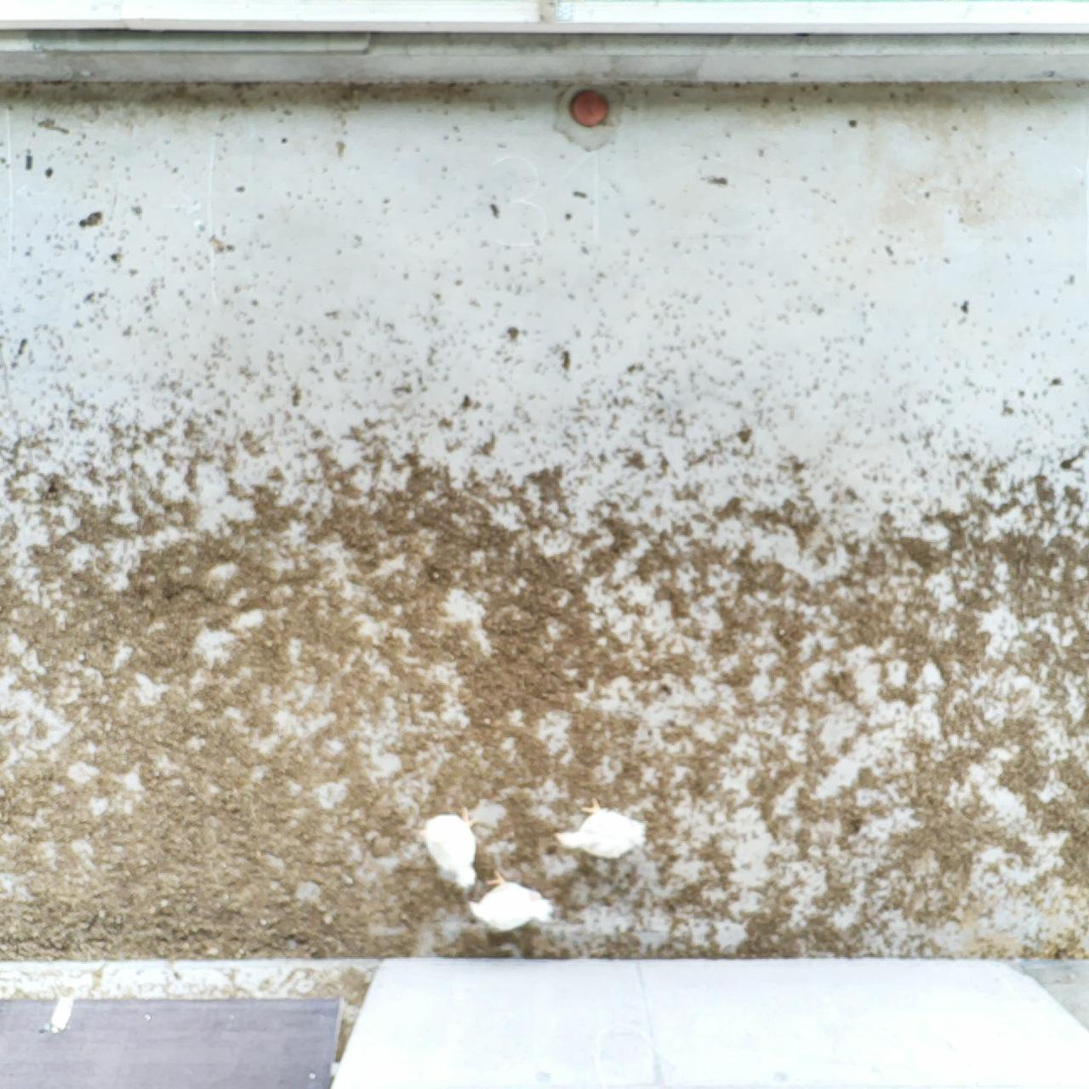chicken: (552, 794, 648, 860), (463, 871, 557, 934), (418, 805, 481, 892)
